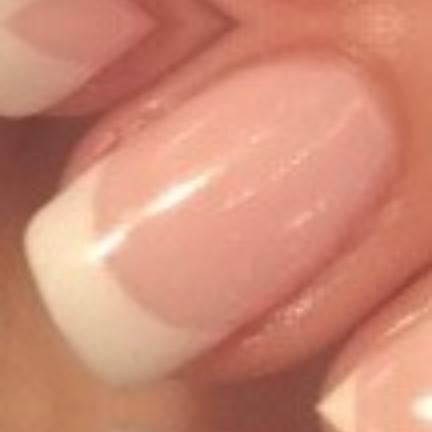Nail: (19, 50, 404, 394), (102, 422, 159, 432)
